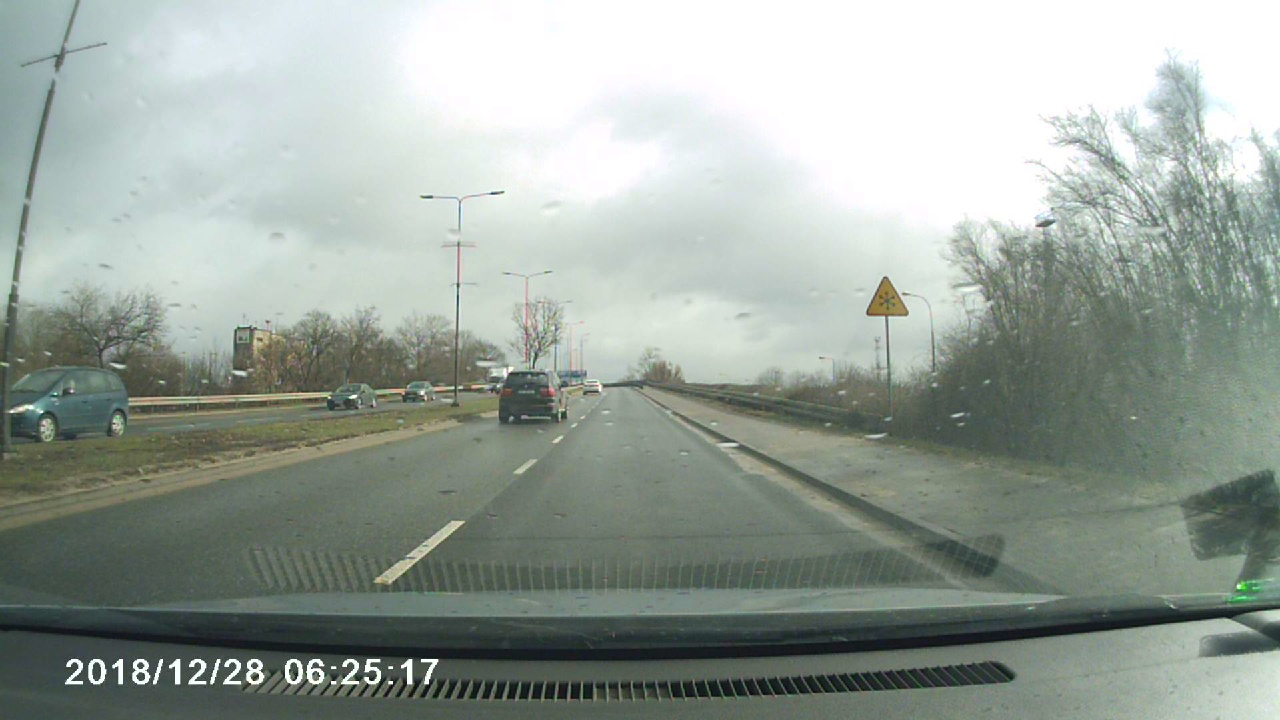A32: (863, 272, 910, 318)
